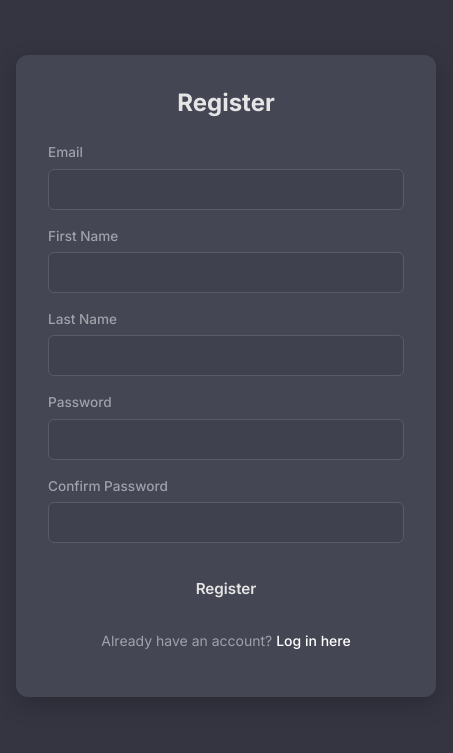
Test: Register page › displays error on failed registration
Type "existing@example.com" into the field labelled "Email" at (226, 189), box [48,168,404,210]
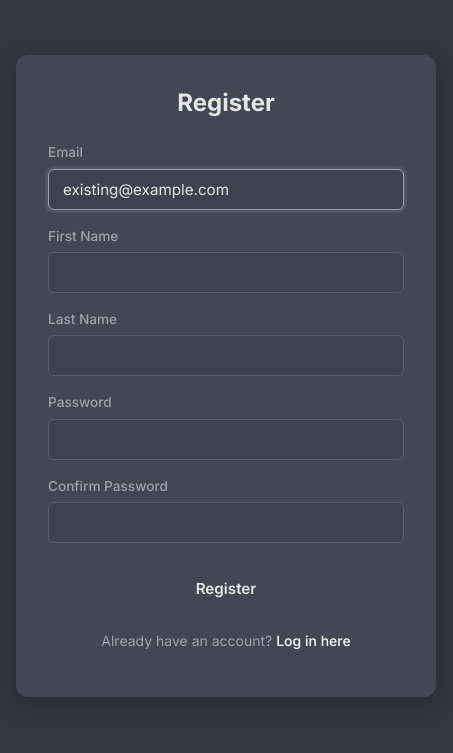
Type "John" into the field labelled "First Name" at (226, 272), box [48,252,404,293]
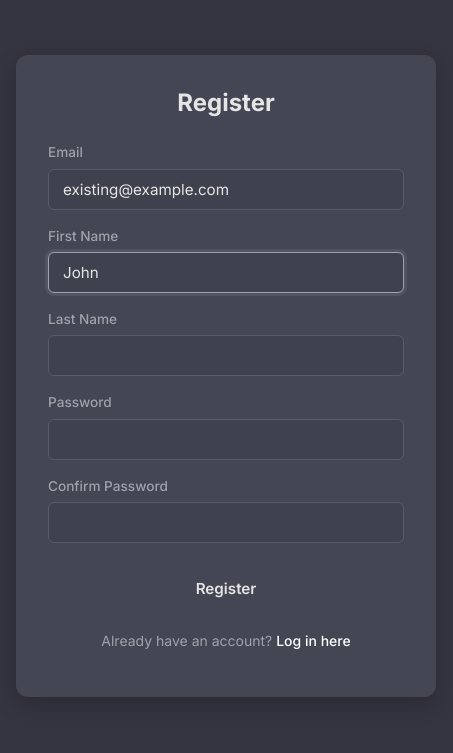
Type "Doe" into the field labelled "Last Name" at (226, 356), box [48,335,404,376]
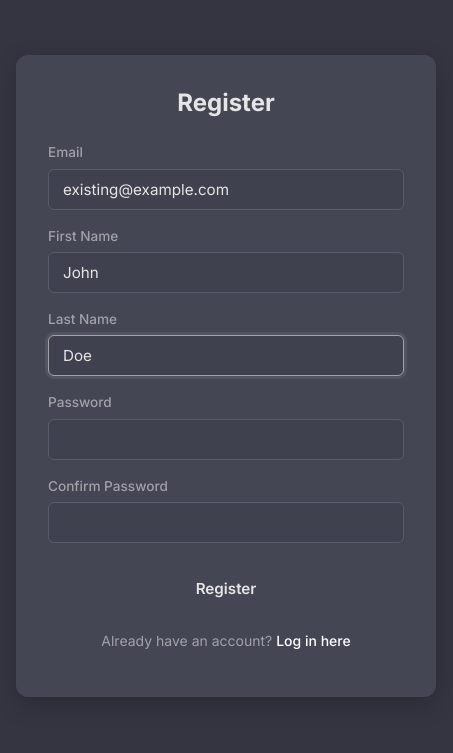
Type "Password1" into the password field labelled "Password" at (226, 439), box [48,419,404,460]
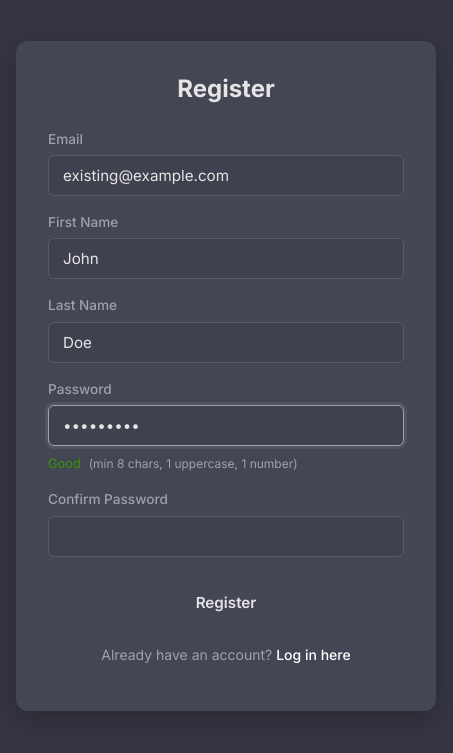
Type "Password1" into the password field labelled "Confirm Password" at (226, 536), box [48,516,404,557]
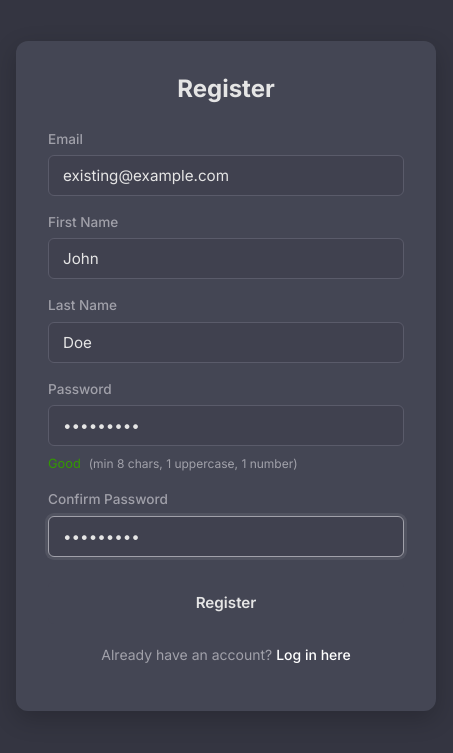
Click the button "Register" at (226, 602), box [48,581,404,624]
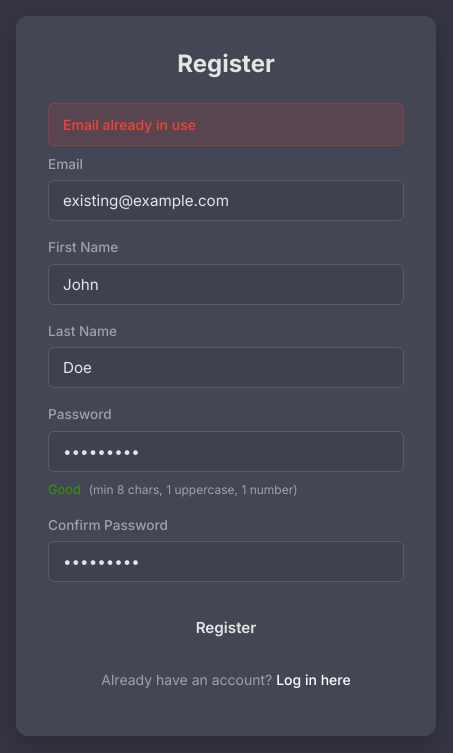
Expected: the text "Email already in use" is shown, [48,103,404,146]
